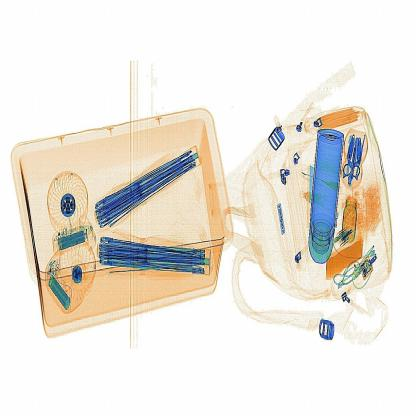pliers: (299, 153, 321, 227)
